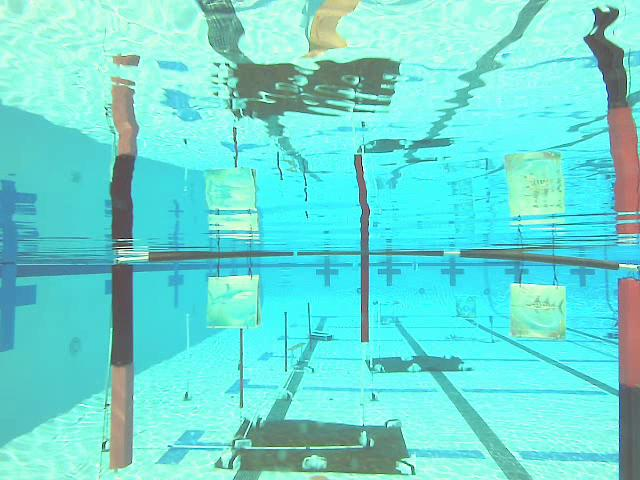black_poster: (240, 329, 243, 410), (285, 312, 288, 372)
divider: (361, 235, 369, 341)
left_gate_poster: (112, 252, 131, 469)
right_gate_poster: (618, 278, 640, 480)
shark: (209, 276, 260, 329)
swordfish: (510, 283, 567, 341)
white_poster: (186, 314, 189, 401)
